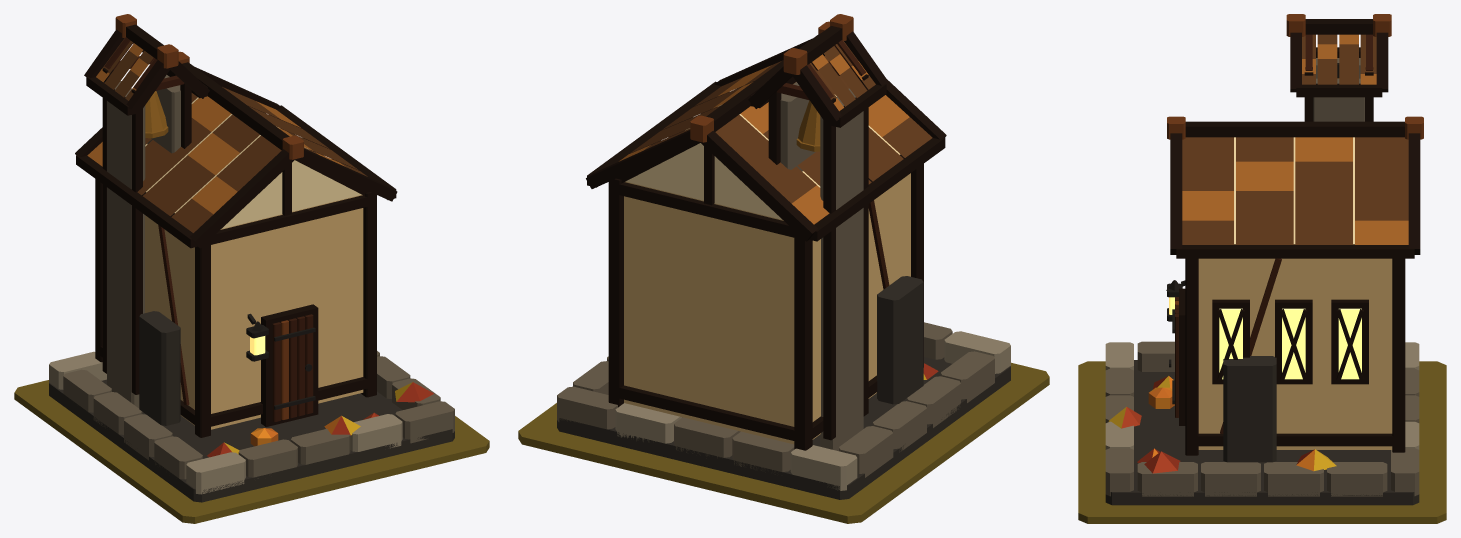
The model's file is chapel_t6.glb.
3 views of the same model, side by side, from view 1: azimuth 30°, elevation 25°; view 2: azimuth 150°, elevation 25°; view 3: azimuth 270°, elevation 25° (orthographic). The views are drawn at different scales.
Visible parts, largest first — view 1: MMR | chapel | T06 Architecture.001, MMR | chapel | Tier 06 Ground.001, MMR | chapel | T06 Autumn Dressing.001; view 2: MMR | chapel | T06 Architecture.001, MMR | chapel | Tier 06 Ground.001; view 3: MMR | chapel | T06 Architecture.001, MMR | chapel | Tier 06 Ground.001, MMR | chapel | T06 Autumn Dressing.001.
Boxes of the visible parts, <box> form: MMR | chapel | T06 Architecture.001: <box>49,14,454,502</box>; MMR | chapel | Tier 06 Ground.001: <box>14,380,489,523</box>; MMR | chapel | T06 Autumn Dressing.001: <box>207,382,433,457</box>; MMR | chapel | T06 Architecture.001: <box>557,14,1010,499</box>; MMR | chapel | Tier 06 Ground.001: <box>518,362,1049,523</box>; MMR | chapel | T06 Architecture.001: <box>1105,14,1423,505</box>; MMR | chapel | Tier 06 Ground.001: <box>1078,361,1446,523</box>; MMR | chapel | T06 Autumn Dressing.001: <box>1108,376,1336,473</box>.
Size of the model in its own units: 2.35 by 2.77 by 2.35.
Materials: 2 (1 with a texture image).
